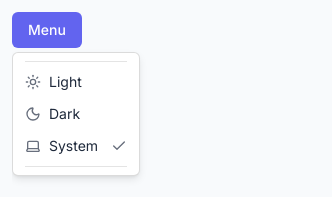
ThemeDropdownMenuItems › should apply theme selection and close the menu
Check: the menu item "Light" is shown, box [25,73,82,90]
Check: the menu item "System" is shown, box [25,137,127,154]
Step 1. Click the menu item "Dark" → coordinates (53, 114), box [25,105,80,122]
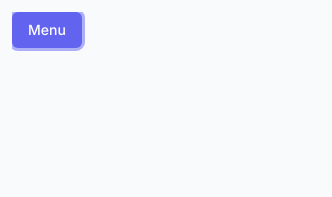
Check: the menu is gone
